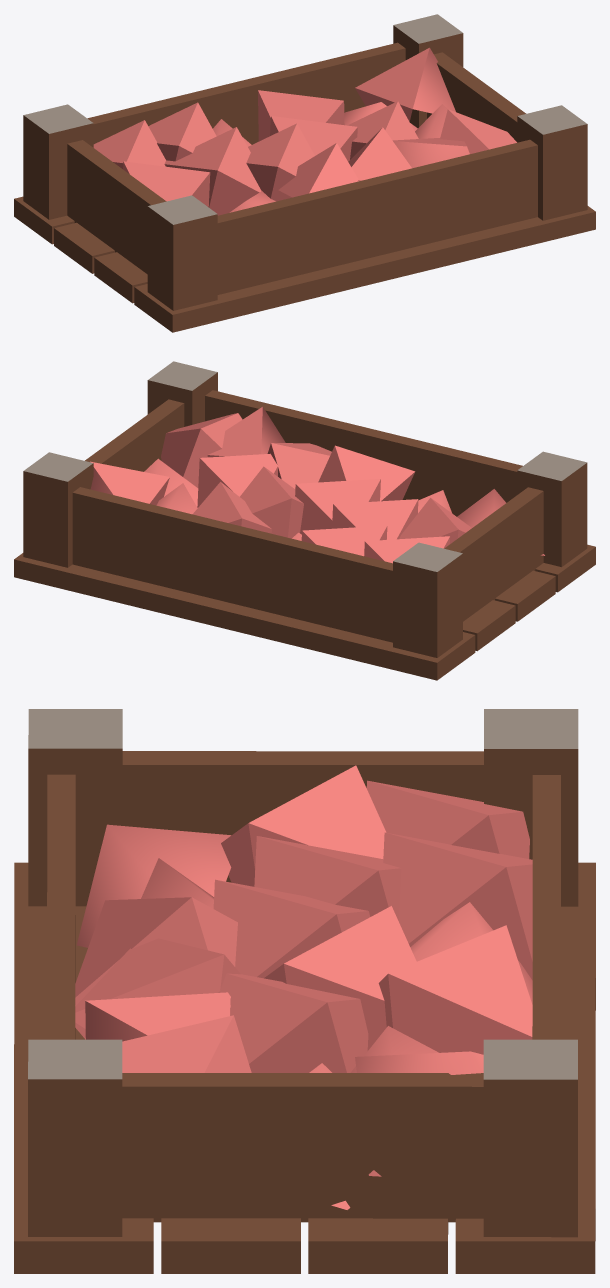
File: caixa_frutas_rasa_pacote.glb
3 renders of one model, top to bottom at view 1: azimuth 30°, elevation 25°; view 2: azimuth 150°, elevation 25°; view 3: azimuth 270°, elevation 25°, orthographic. The views are drawn at different scales.
Visible parts, largest first — view 1: caixa_frutas_rasa_pacote; view 2: caixa_frutas_rasa_pacote; view 3: caixa_frutas_rasa_pacote.
Part boxes in pixels (box(x1,y1,x2,y2)): caixa_frutas_rasa_pacote: box(14, 14, 595, 332); caixa_frutas_rasa_pacote: box(14, 361, 595, 680); caixa_frutas_rasa_pacote: box(14, 709, 595, 1273).
Bounding box in the file's own units: 0.7133 × 0.1671 × 0.4632.
Materials: 1 (1 with a texture image).
